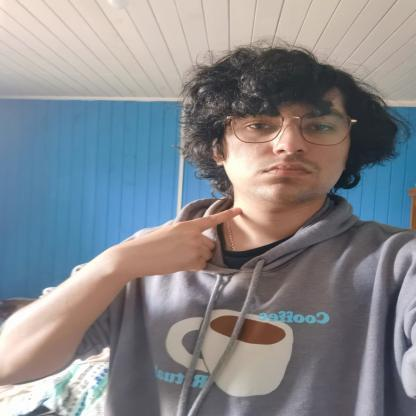Q: (122, 206, 244, 274)
